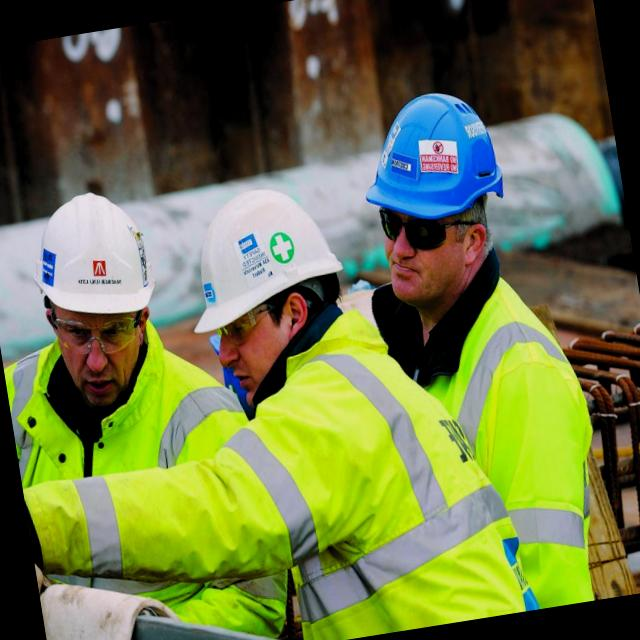helmet: (173, 168, 347, 338), (354, 87, 516, 245), (16, 186, 178, 336)
vest: (4, 335, 262, 640), (392, 259, 604, 620), (240, 305, 465, 640)
